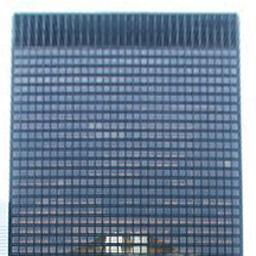building: (9, 10, 241, 256)
